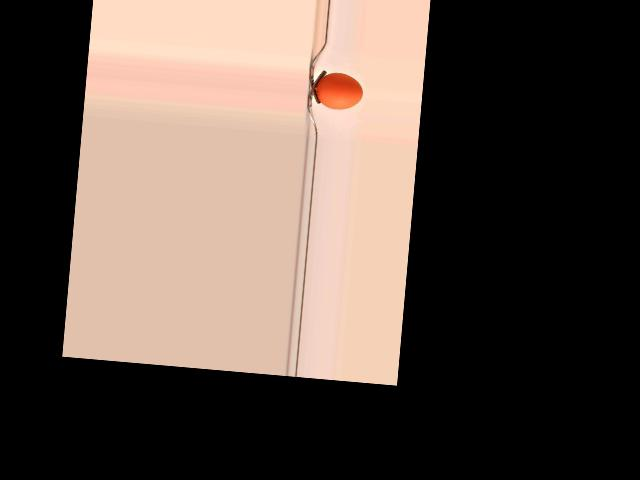egg: (314, 71, 363, 111)
